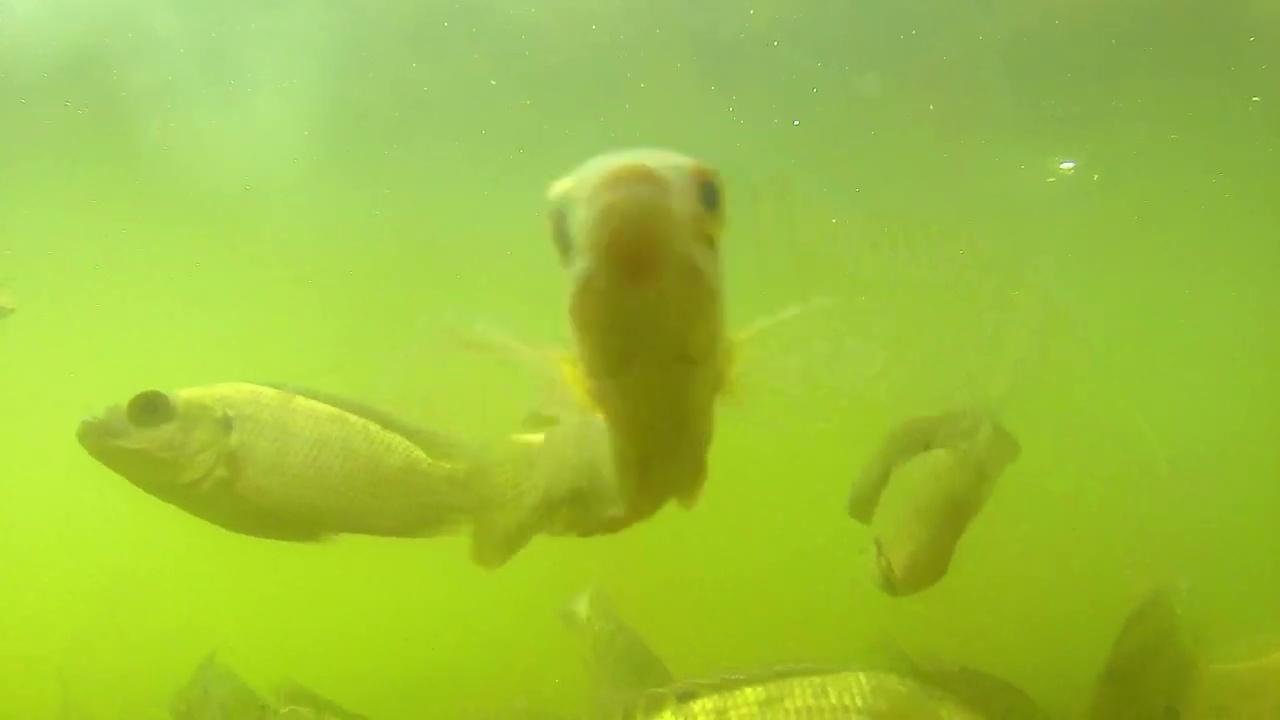Tilapia: (81, 370, 478, 586), (539, 150, 736, 544), (851, 406, 1024, 600)
